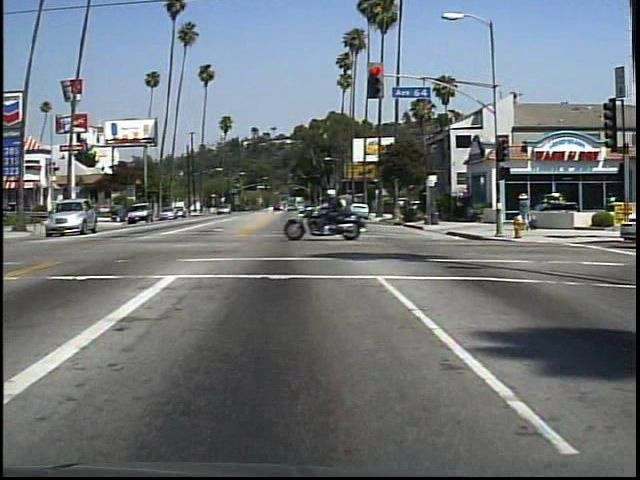person: (322, 187, 355, 238), (514, 186, 537, 219)
